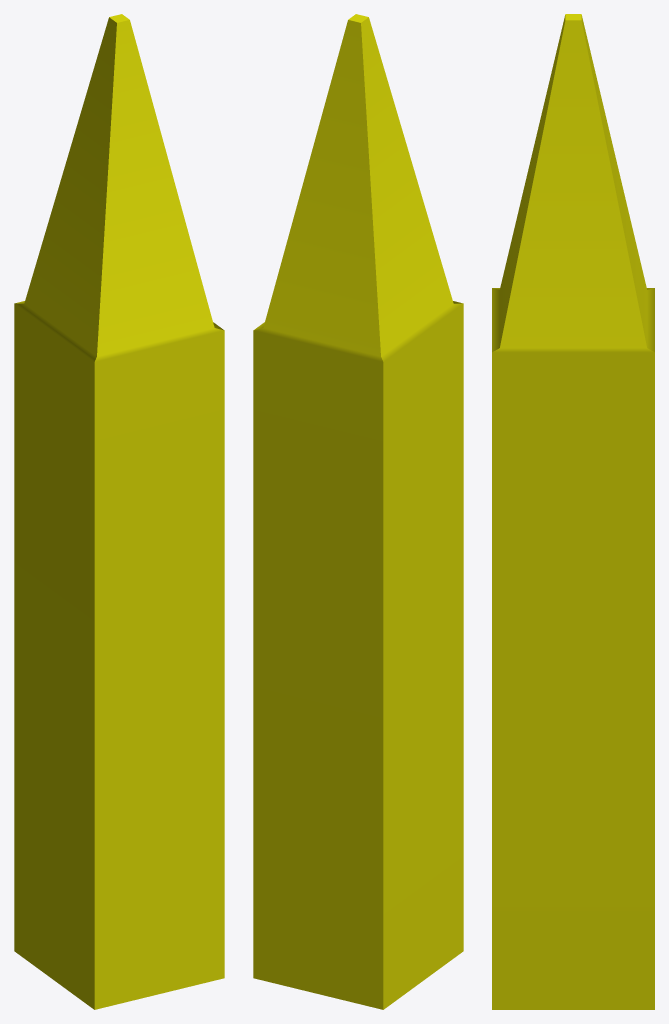
Rendered from Background_Wall_Roof_02.fbx.
3 renders of one model, left to right at view 1: azimuth 30°, elevation 25°; view 2: azimuth 150°, elevation 25°; view 3: azimuth 270°, elevation 25°, orthographic.
Parts seen in each view (by area): view 1: Background_Wall_Roof_02; view 2: Background_Wall_Roof_02; view 3: Background_Wall_Roof_02.
Boxes of the visible parts, x1,y1,x2,y2 form: Background_Wall_Roof_02: [14, 14, 224, 1009]; Background_Wall_Roof_02: [253, 14, 463, 1009]; Background_Wall_Roof_02: [492, 14, 654, 1009].
Bounding box in the file's own units: 678 × 4709 × 724.
